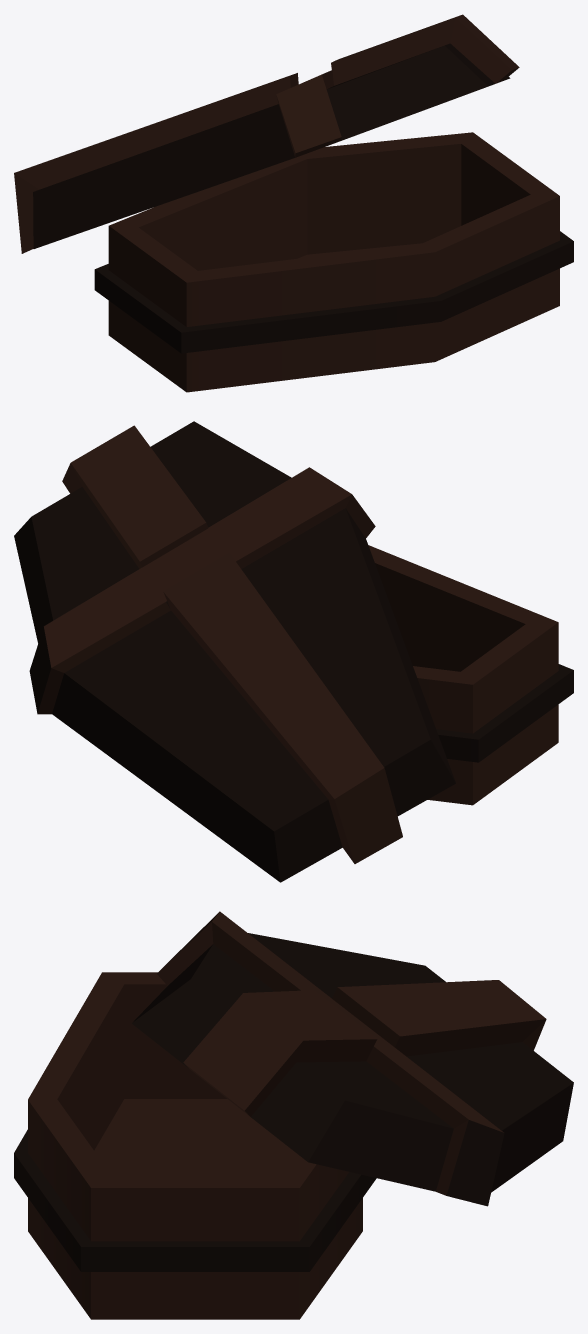
File: WoodCoffin.fbx
The picture shows the model from 3 angles, top to bottom: view 1: azimuth 30°, elevation 25°; view 2: azimuth 150°, elevation 25°; view 3: azimuth 270°, elevation 25°; orthographic projection. The views are drawn at different scales.
Visible parts, largest first — view 1: WoodCoffin; view 2: WoodCoffin; view 3: WoodCoffin.
Boxes of the visible parts, x1,y1,x2,y2 form: WoodCoffin: (14, 14, 573, 392); WoodCoffin: (14, 421, 573, 882); WoodCoffin: (14, 911, 573, 1319).
Size of the model in its own units: 47.37 by 26.11 by 43.59.
